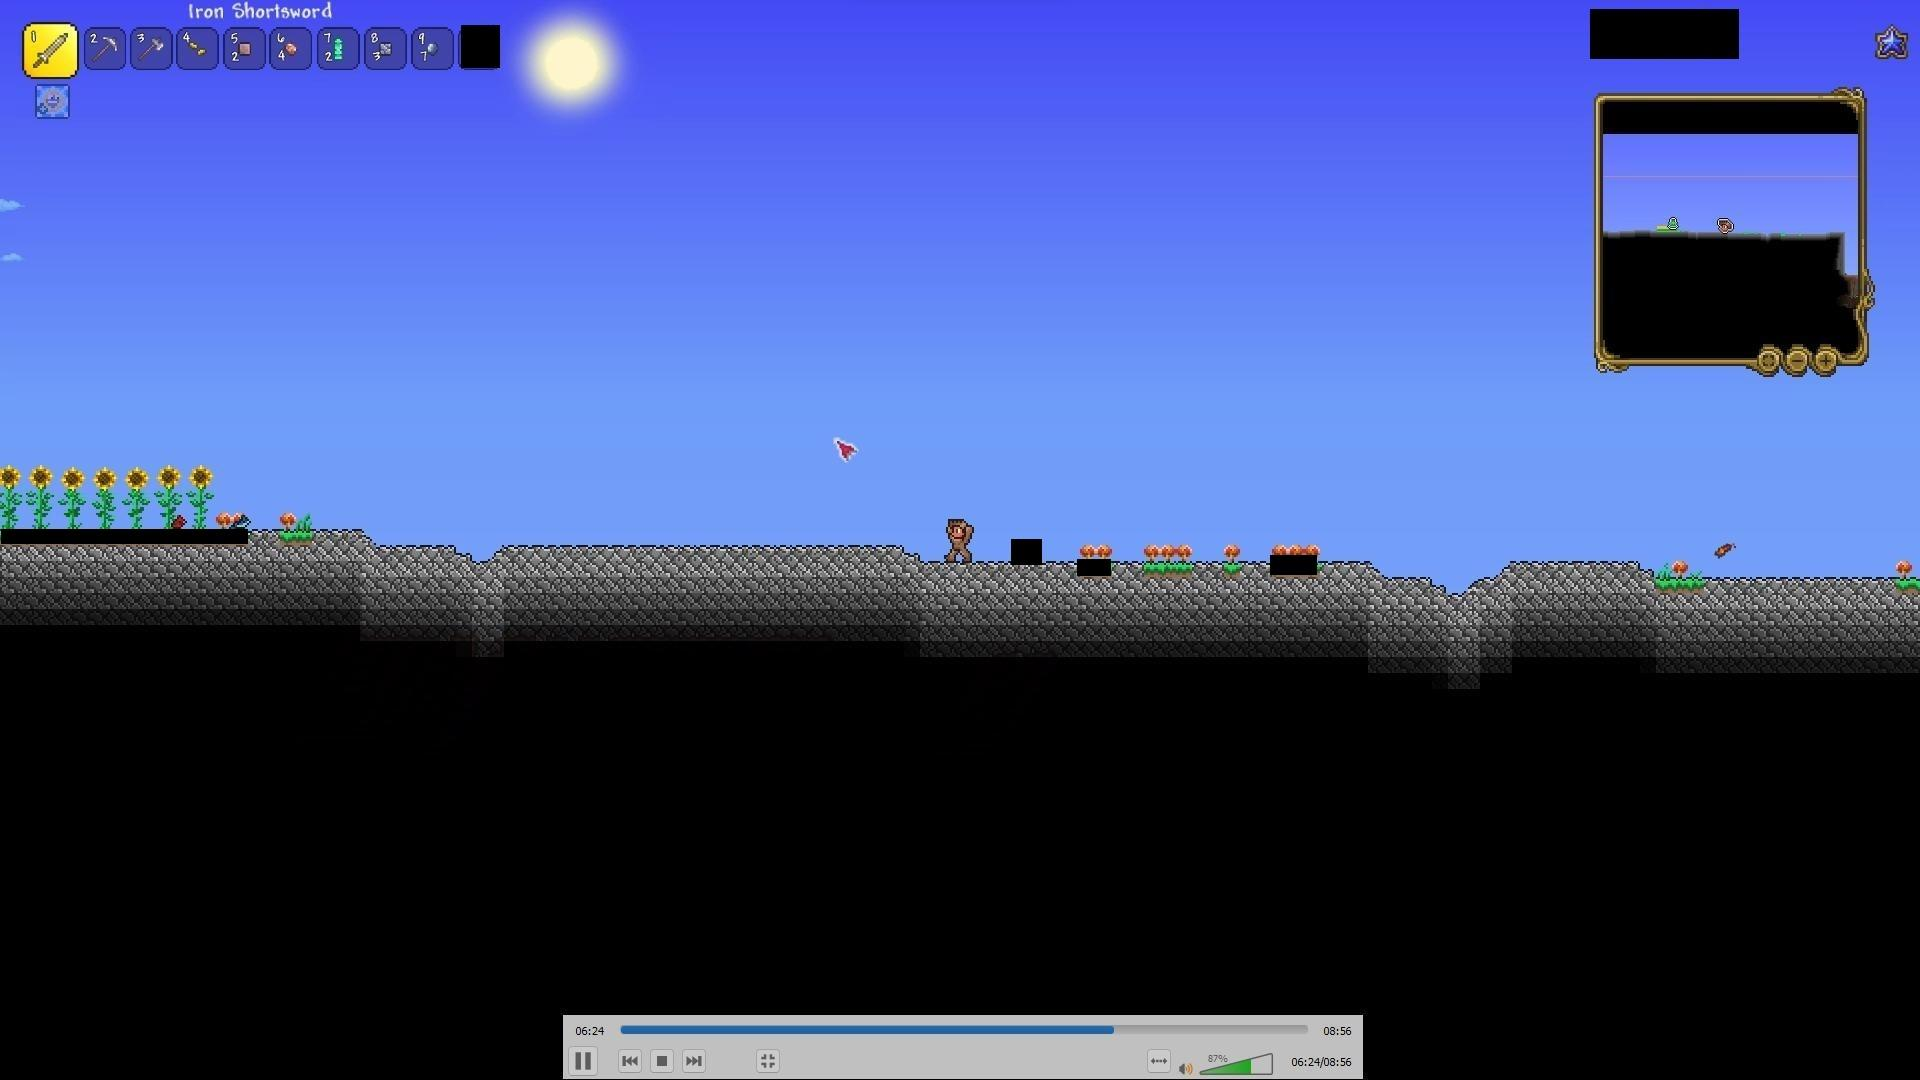dirt: (1142, 556, 1188, 576), (281, 527, 313, 545)
